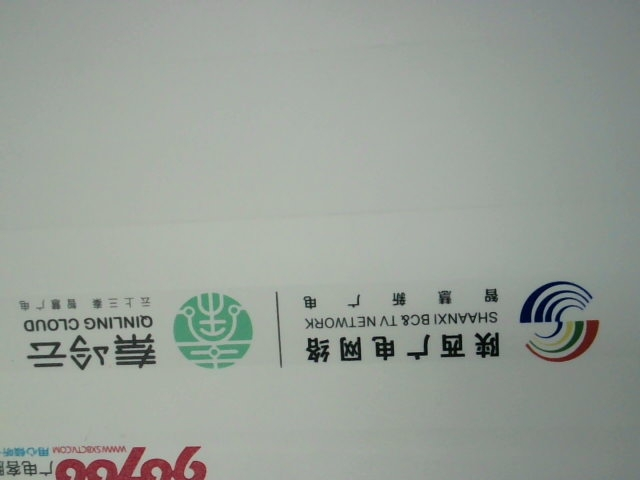AE_QinLing: (13, 290, 258, 378)
